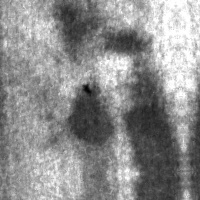patches: (116, 59, 181, 175), (50, 0, 121, 62), (64, 81, 116, 148), (93, 22, 160, 62)
